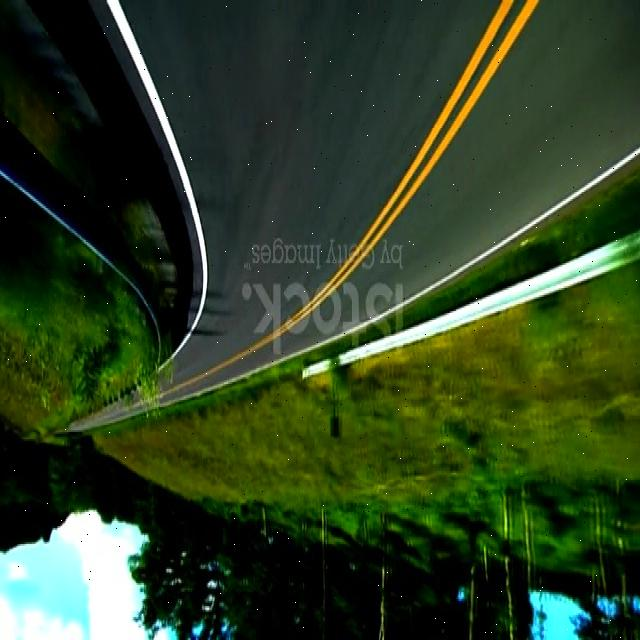lane: (181, 0, 538, 386), (406, 148, 640, 301), (108, 0, 208, 358)
road: (125, 4, 640, 405)
